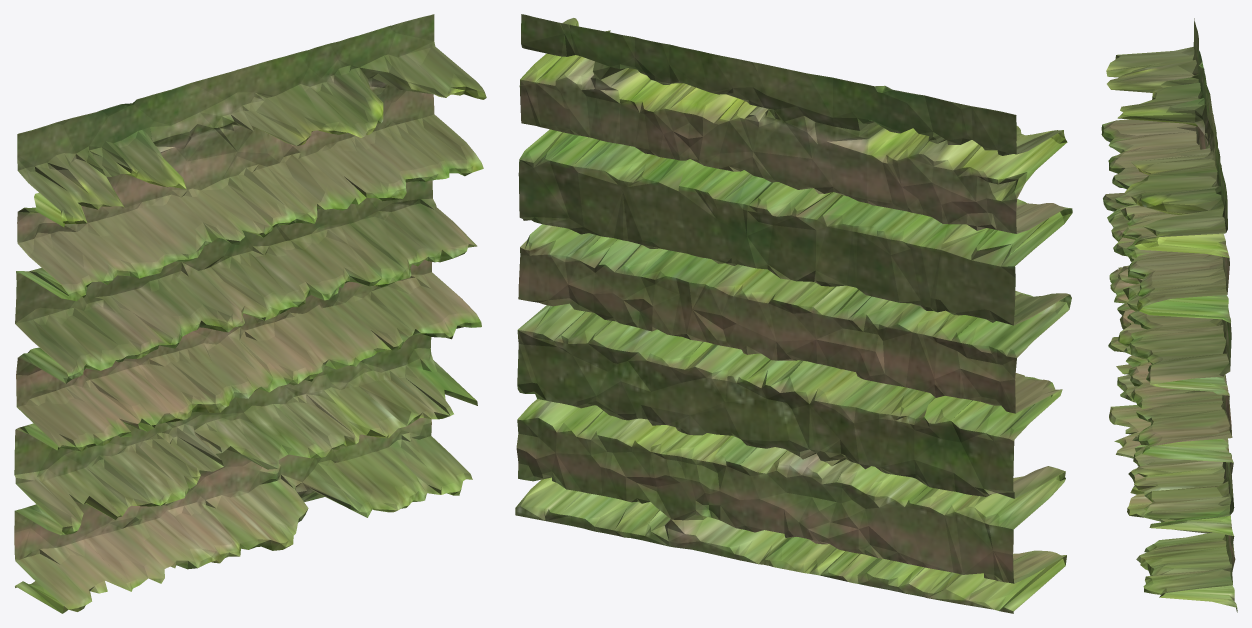
Rendered from map_210_70.obj.
The picture shows the model from 3 angles, left to right: view 1: azimuth 30°, elevation 25°; view 2: azimuth 150°, elevation 25°; view 3: azimuth 270°, elevation 25°; orthographic projection. The views are drawn at different scales.
Parts seen in each view (by area): view 1: grp1; view 2: grp1; view 3: grp1.
Part boxes in pixels (left/top/right/bottom): grp1: left=14, top=14, right=486, bottom=613; grp1: left=515, top=14, right=1072, bottom=613; grp1: left=1101, top=18, right=1237, bottom=612.
Size of the model in its own units: 10 by 10 by 3.01.
1 material, 1 textured.
